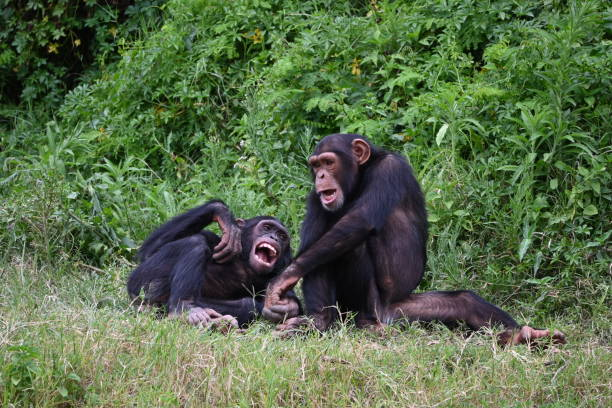chimpanzee: (300, 128, 388, 228), (226, 208, 304, 290)
